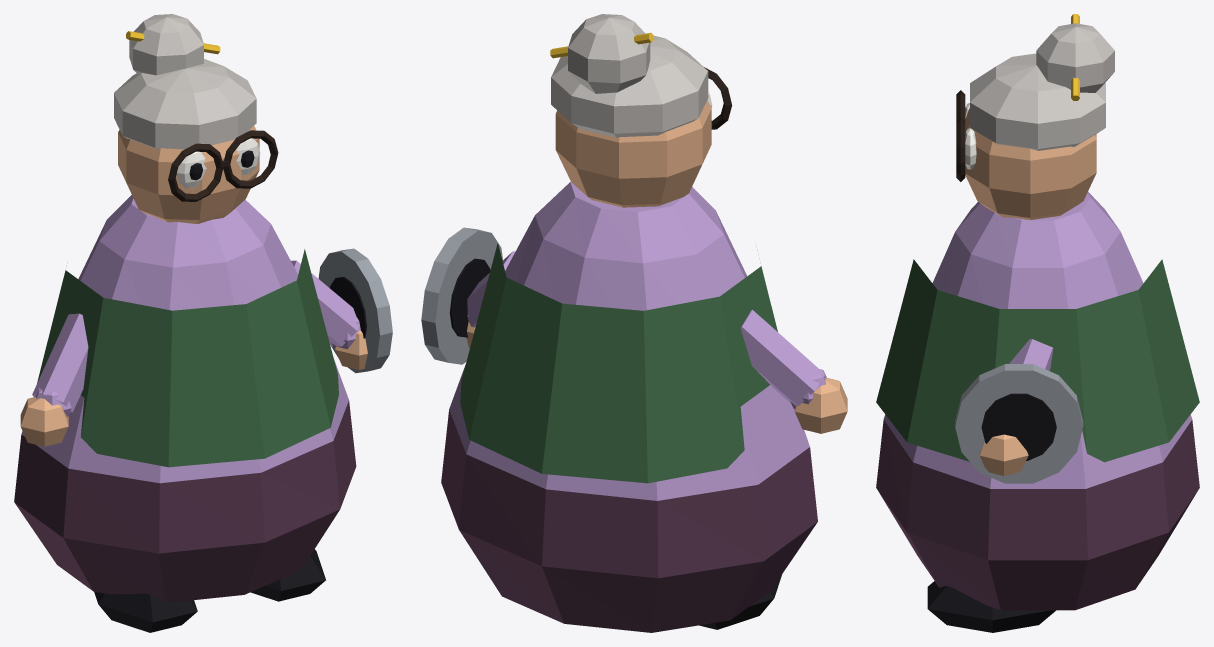
File: npc_dona_bobina.glb
3 renders of one model, left to right at view 1: azimuth 30°, elevation 25°; view 2: azimuth 150°, elevation 25°; view 3: azimuth 270°, elevation 25°, orthographic. The views are drawn at different scales.
Visible parts, largest first — view 1: vest_bobina_vest, body_bobina_skirt, body_bobina_blouse, hair_bobina_hair, head_skin_bobina, arms_bobina_blouse, legs_black, reel_bobina_reel, arms_skin_bobina, glasses_bobina_glasses, face_white, reel_black; view 2: vest_bobina_vest, body_bobina_skirt, body_bobina_blouse, hair_bobina_hair, head_skin_bobina, reel_bobina_reel, arms_bobina_blouse, arms_skin_bobina, reel_black, legs_black, glasses_bobina_glasses; view 3: vest_bobina_vest, body_bobina_skirt, body_bobina_blouse, hair_bobina_hair, head_skin_bobina, reel_bobina_reel, reel_black, legs_black, arms_skin_bobina, glasses_bobina_glasses, arms_bobina_blouse, face_white.
Boxes of the visible parts, x1,y1,x2,y2 form: vest_bobina_vest: (37, 249, 338, 467); body_bobina_skirt: (14, 401, 356, 601); body_bobina_blouse: (21, 195, 348, 483); hair_bobina_hair: (114, 14, 256, 149); head_skin_bobina: (118, 125, 259, 224); arms_bobina_blouse: (32, 260, 360, 417); legs_black: (94, 549, 325, 632); reel_bobina_reel: (318, 248, 392, 373); arms_skin_bobina: (20, 330, 367, 446); glasses_bobina_glasses: (168, 130, 278, 201); face_white: (177, 138, 260, 188); reel_black: (330, 276, 366, 338); vest_bobina_vest: (460, 243, 777, 483); body_bobina_skirt: (441, 409, 817, 632); body_bobina_blouse: (449, 181, 809, 500); hair_bobina_hair: (551, 14, 708, 137); head_skin_bobina: (555, 100, 711, 207); reel_bobina_reel: (421, 227, 502, 364); arms_bobina_blouse: (467, 251, 826, 408); arms_skin_bobina: (466, 322, 847, 433); reel_black: (449, 258, 490, 337); legs_black: (699, 575, 781, 629); glasses_bobina_glasses: (704, 67, 732, 129); vest_bobina_vest: (876, 259, 1199, 462); body_bobina_skirt: (876, 420, 1199, 610); body_bobina_blouse: (883, 192, 1192, 488); hair_bobina_hair: (970, 23, 1114, 150); head_skin_bobina: (965, 108, 1096, 219); reel_bobina_reel: (955, 364, 1083, 483); reel_black: (981, 393, 1056, 460); legs_black: (927, 581, 1055, 632); arms_skin_bobina: (979, 434, 1028, 475); glasses_bobina_glasses: (956, 90, 965, 181); arms_bobina_blouse: (1009, 339, 1053, 371); face_white: (965, 102, 976, 169).
Size of the model in its own units: 1.13 by 1.66 by 0.86.
